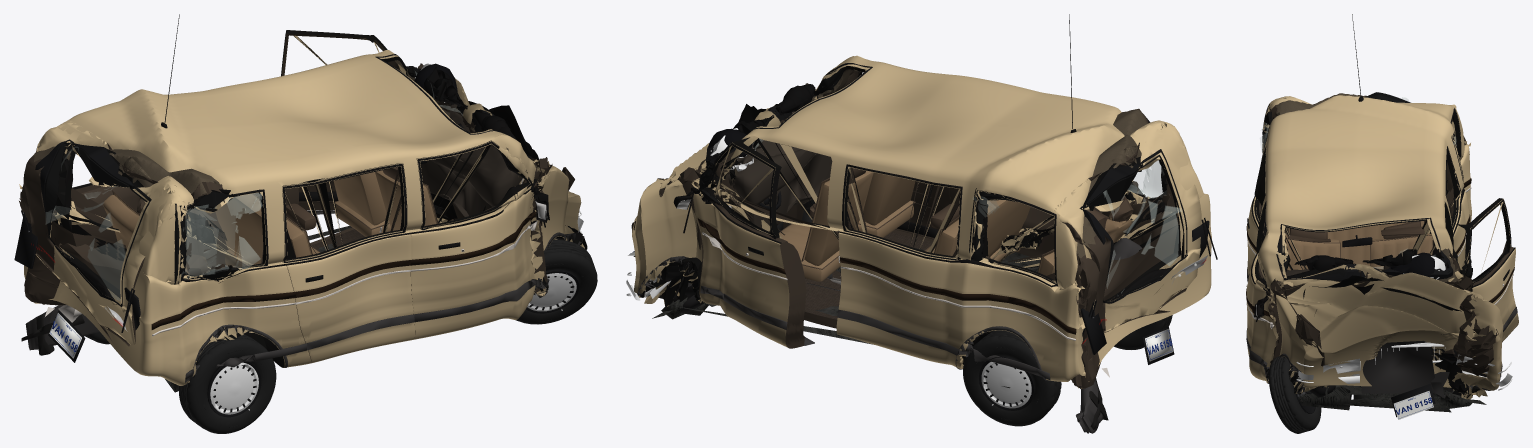
Rendered from minivan86_front_d3_lod1.glb.
3 views of the same model, side by side, from view 1: azimuth 30°, elevation 25°; view 2: azimuth 150°, elevation 25°; view 3: azimuth 270°, elevation 25° (orthographic). The views are drawn at different scales.
Visible parts, largest first — view 1: Body, Interior, Door_FR, Door_SR, Liftgate, Wheel_RR_mesh, Glass, Trim, Glass_Liftgate, Wheel_FR_mesh, Trim_FR, Trim_SR (+5 smaller); view 2: Body, Interior, Door_FL, Liftgate, Trim, Wheel_RL_mesh, Glass_Liftgate, Glass, Trim_FL, Ends, Underbody, Bumper_R (+3 smaller); view 3: Body, Hood, Interior, Engine, Door_FL, Trim, Underbody, Ends, Door_FR, Wheel_FR_mesh, Glass, Trim_FR (+3 smaller).
Boxes of the visible parts, left/top/right/bottom form: Body: left=19, top=50, right=587, bottom=385; Interior: left=103, top=63, right=522, bottom=275; Door_FR: left=411, top=140, right=535, bottom=339; Door_SR: left=282, top=163, right=415, bottom=363; Liftgate: left=23, top=120, right=187, bottom=346; Wheel_RR_mesh: left=179, top=334, right=276, bottom=433; Glass: left=174, top=54, right=531, bottom=284; Trim: left=151, top=14, right=584, bottom=384; Glass_Liftgate: left=35, top=139, right=151, bottom=306; Wheel_FR_mesh: left=515, top=239, right=597, bottom=324; Trim_FR: left=410, top=141, right=549, bottom=322; Trim_SR: left=283, top=164, right=414, bottom=350; Body: left=631, top=55, right=1211, bottom=388; Interior: left=708, top=79, right=1133, bottom=281; Door_FL: left=693, top=137, right=805, bottom=348; Liftgate: left=1054, top=121, right=1201, bottom=332; Trim: left=637, top=14, right=1149, bottom=380; Wheel_RL_mesh: left=963, top=330, right=1061, bottom=426; Glass_Liftgate: left=1079, top=149, right=1187, bottom=303; Glass: left=705, top=63, right=1166, bottom=264; Trim_FL: left=673, top=143, right=832, bottom=345; Ends: left=626, top=218, right=1217, bottom=364; Underbody: left=652, top=248, right=1161, bottom=388; Bumper_R: left=1076, top=238, right=1141, bottom=433; Body: left=1252, top=93, right=1503, bottom=399; Hood: left=1277, top=264, right=1483, bottom=366; Interior: left=1285, top=221, right=1445, bottom=279; Engine: left=1362, top=340, right=1434, bottom=393; Door_FL: left=1456, top=198, right=1518, bottom=342; Trim: left=1247, top=14, right=1502, bottom=398; Underbody: left=1298, top=385, right=1486, bottom=412; Ends: left=1296, top=342, right=1512, bottom=419; Door_FR: left=1246, top=201, right=1275, bottom=380; Wheel_FR_mesh: left=1268, top=356, right=1321, bottom=433; Glass: left=1260, top=108, right=1463, bottom=280; Trim_FR: left=1246, top=202, right=1274, bottom=373.
Bounding box in the file's own units: 3.62 × 2.57 × 2.16.
Materials: 33 (5 with a texture image).
